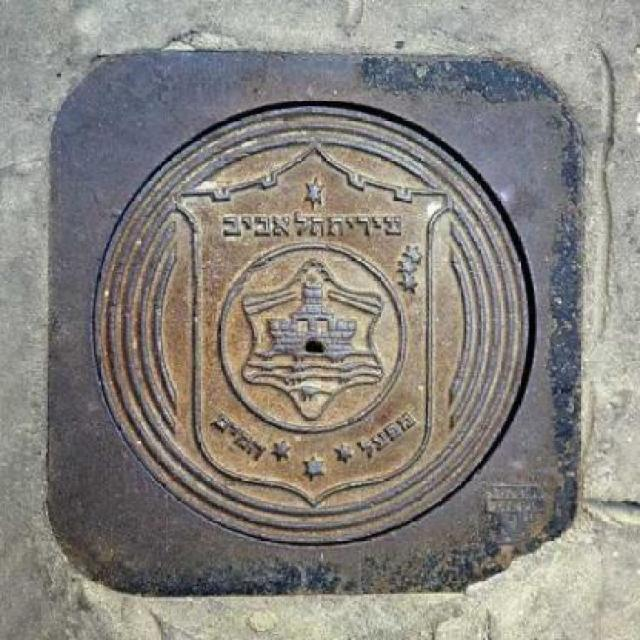Manhole: (75, 90, 560, 559)
